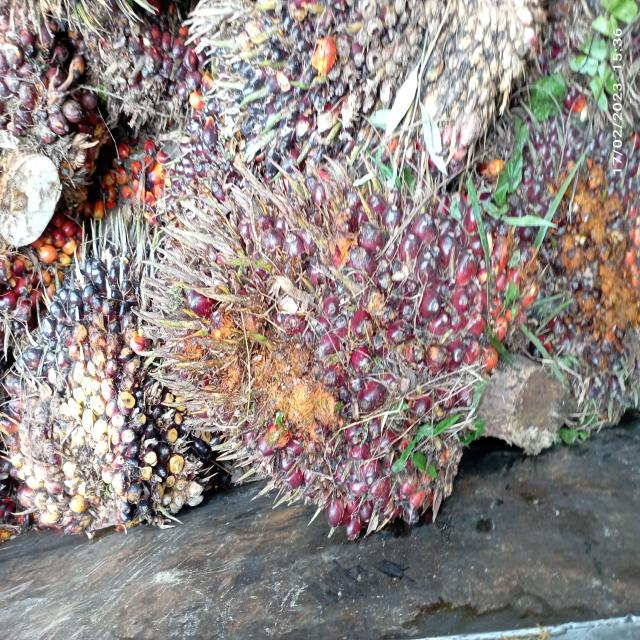fraksi 00: (0, 202, 202, 579), (202, 0, 552, 198)
fraksi 1: (135, 138, 535, 577)
